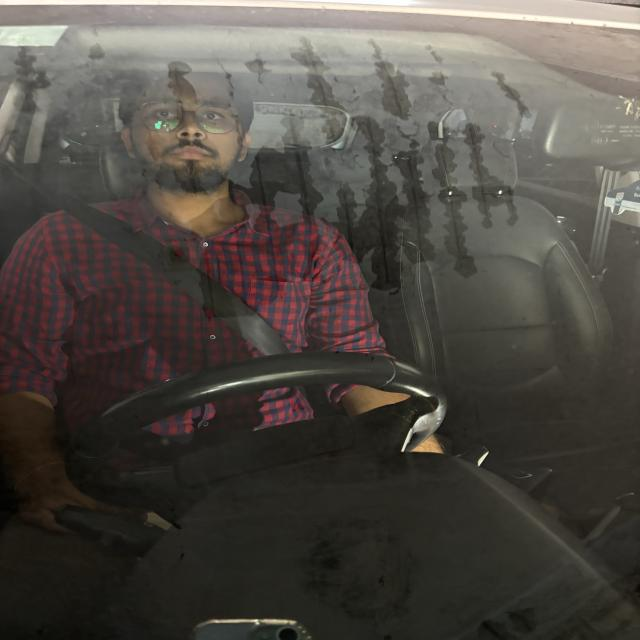seatbelt: (0, 124, 382, 420)
